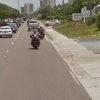Motorcycle: (21, 22, 45, 52)
